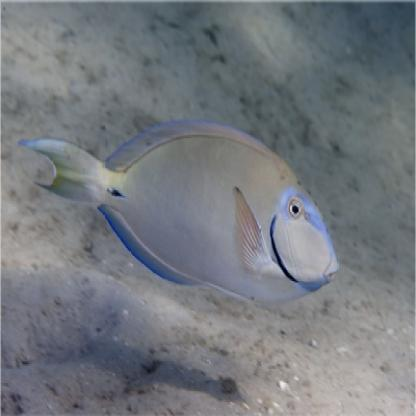surgeon: (17, 117, 339, 306)
